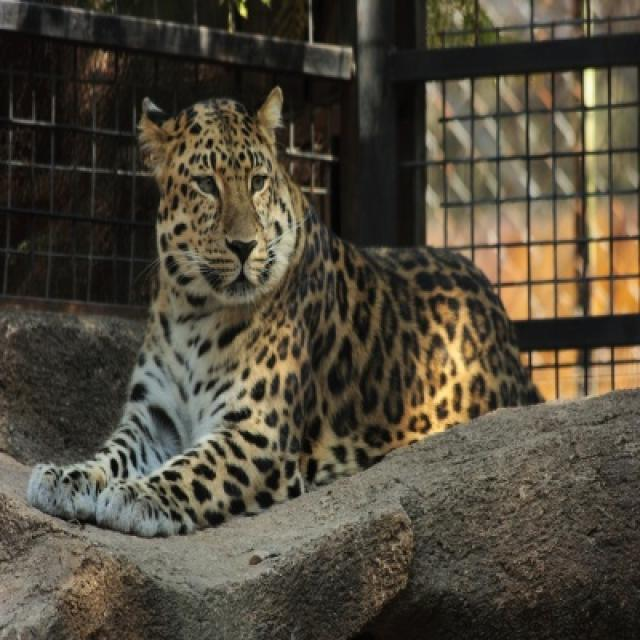Jaguar: (16, 77, 560, 555)
